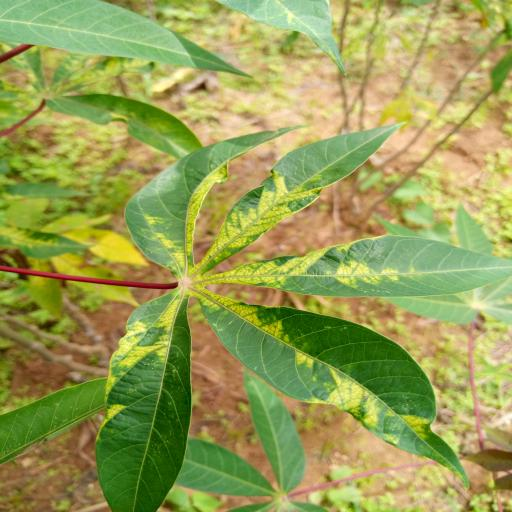Cassava_Mosaic: (94, 122, 512, 512)
